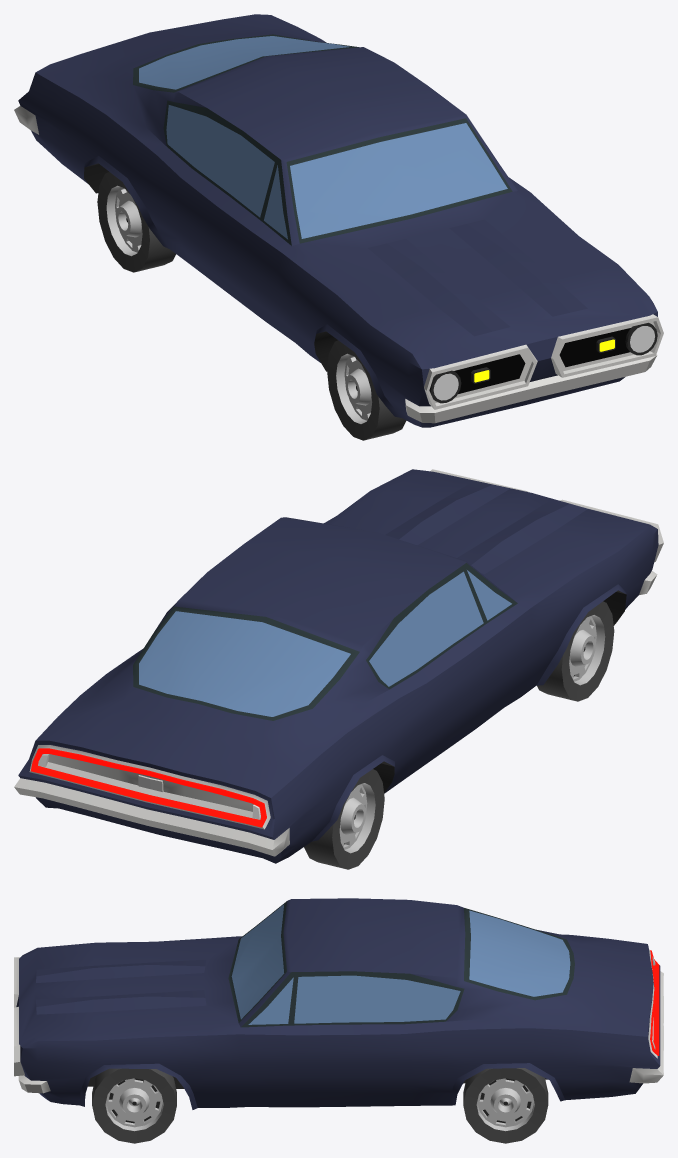
Rendered from plymouth.fbx.
The picture shows the model from 3 angles, top to bottom: view 1: azimuth 30°, elevation 25°; view 2: azimuth 150°, elevation 25°; view 3: azimuth 270°, elevation 25°; orthographic projection. The views are drawn at different scales.
Visible parts, largest first — view 1: car_plymouth, wheel_fr_plymouth, wheel_br_plymouth; view 2: car_plymouth, wheel_br_plymouth, wheel_fr_plymouth; view 3: car_plymouth, wheel_fl_plymouth, wheel_bl_plymouth.
Boxes of the visible parts, x1,y1,x2,y2 form: car_plymouth: (14, 14, 663, 427); wheel_fr_plymouth: (327, 340, 406, 440); wheel_br_plymouth: (97, 172, 175, 272); car_plymouth: (14, 469, 663, 863); wheel_br_plymouth: (304, 769, 384, 869); wheel_fr_plymouth: (537, 601, 614, 701); car_plymouth: (14, 898, 663, 1109); wheel_fl_plymouth: (92, 1068, 176, 1143); wheel_bl_plymouth: (463, 1068, 548, 1143).
Size of the model in its own units: 187 by 142 by 495.
